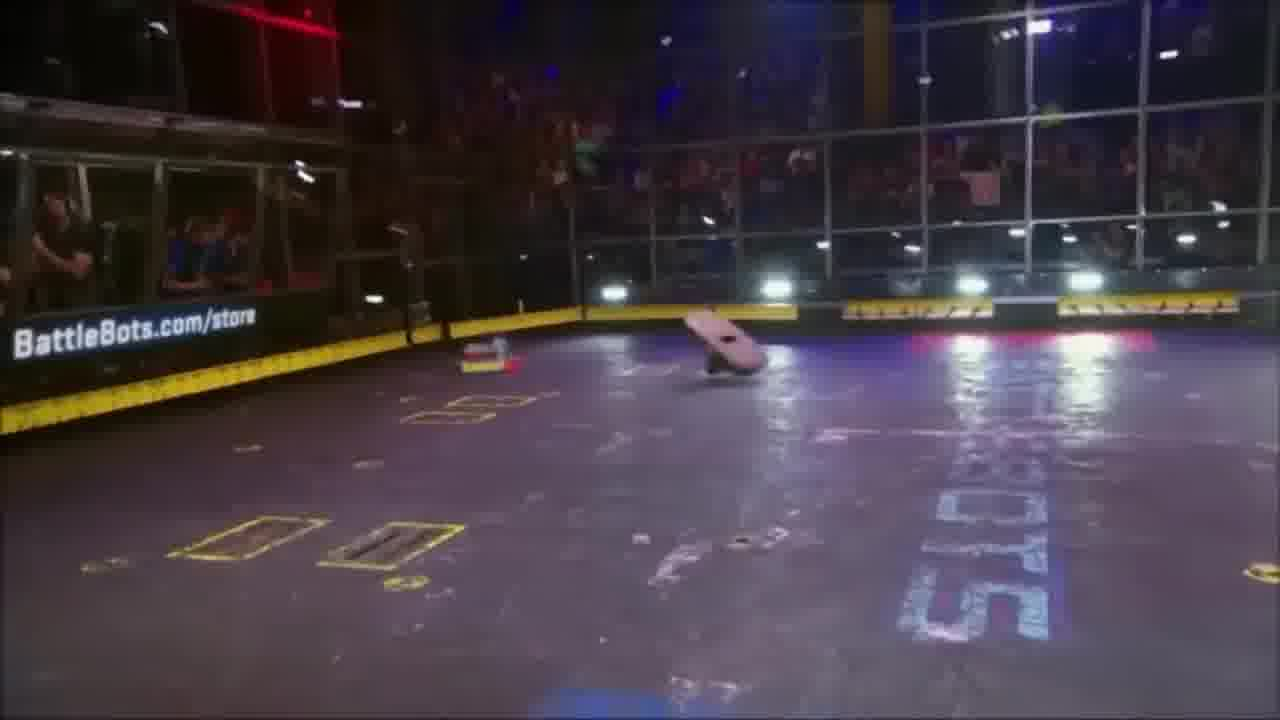combatbot: (683, 309, 774, 381), (456, 337, 515, 374)
